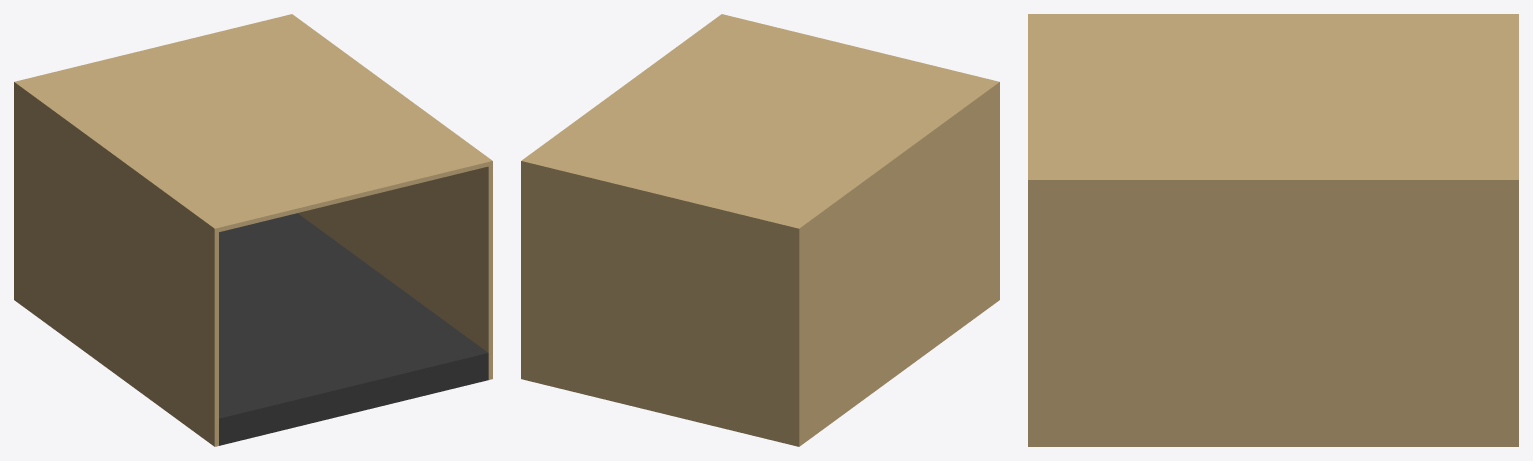
File: StoreBuilding_SteppedDouble.obj
3 renders of one model, left to right at view 1: azimuth 30°, elevation 25°; view 2: azimuth 150°, elevation 25°; view 3: azimuth 270°, elevation 25°, orthographic. The views are drawn at different scales.
Visible parts, largest first — view 1: StoreBuilding_SteppedDouble; view 2: StoreBuilding_SteppedDouble; view 3: StoreBuilding_SteppedDouble.
Part boxes in pixels (x1,y1,x2,y2): StoreBuilding_SteppedDouble: (14,14,492,446); StoreBuilding_SteppedDouble: (521,14,999,446); StoreBuilding_SteppedDouble: (1028,14,1518,446).
Bounding box in the file's own units: 64 × 48 × 80.
1 material, 1 textured.
